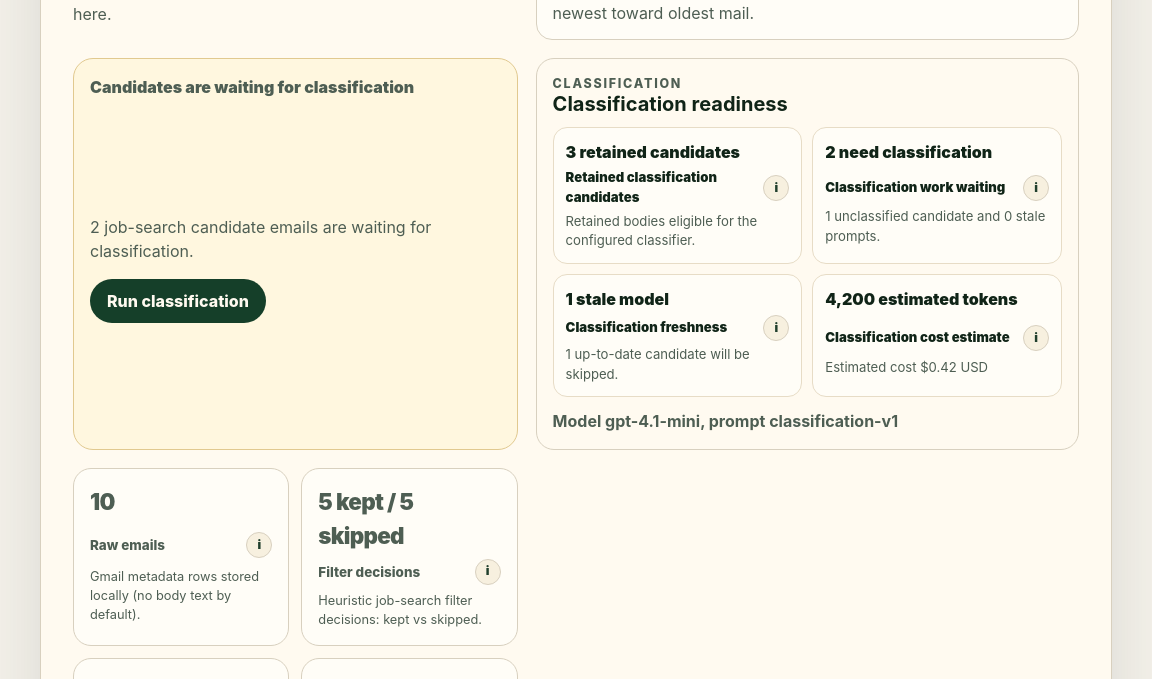
Scenario: App › explains classification freshness through an accessible info control
(page scrolled)
Expected: the text "1 stale model" is shown, [566,289,669,309]
Focus the button named "About Classification freshness". click: (776, 328)
box: [763,315,789,341]
(page scrolled)
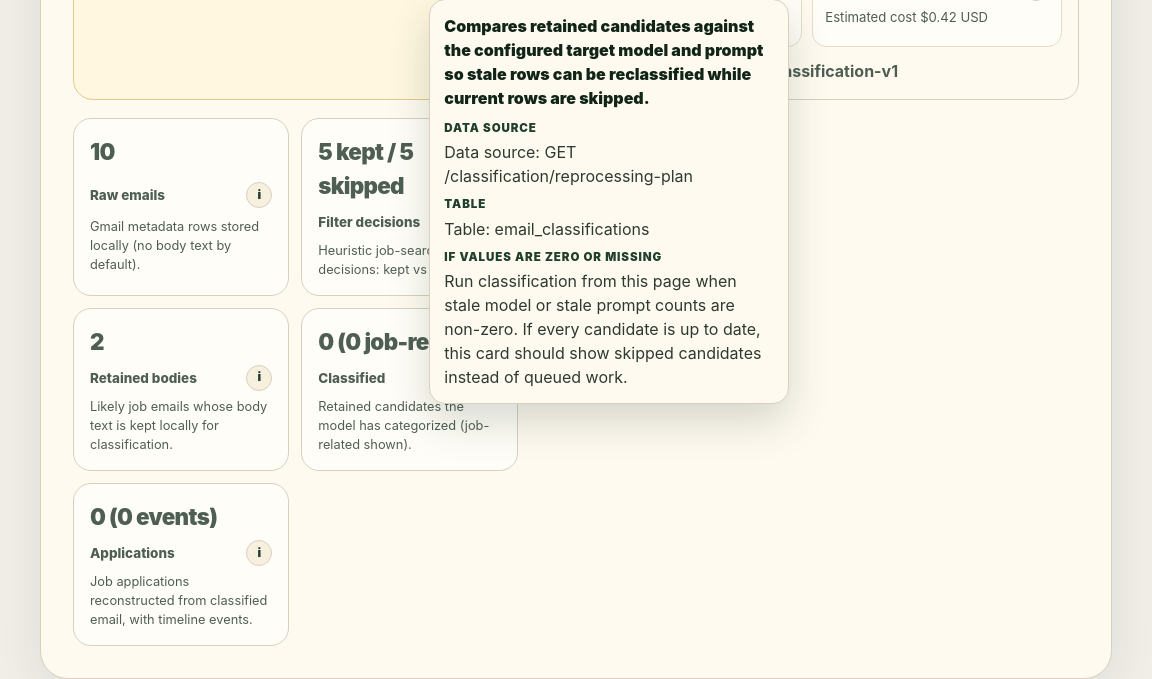
Expected: the text "Data source: GET /classification/reprocessing-plan" is shown, [444,142,693,186]
Expected: the text "Table: email_classifications" is shown, [444,219,649,239]
Expected: the text "Run classification from this page when stale model or stale prompt counts are non-zero. If every candidate is up to date" is shown, [444,271,762,387]
